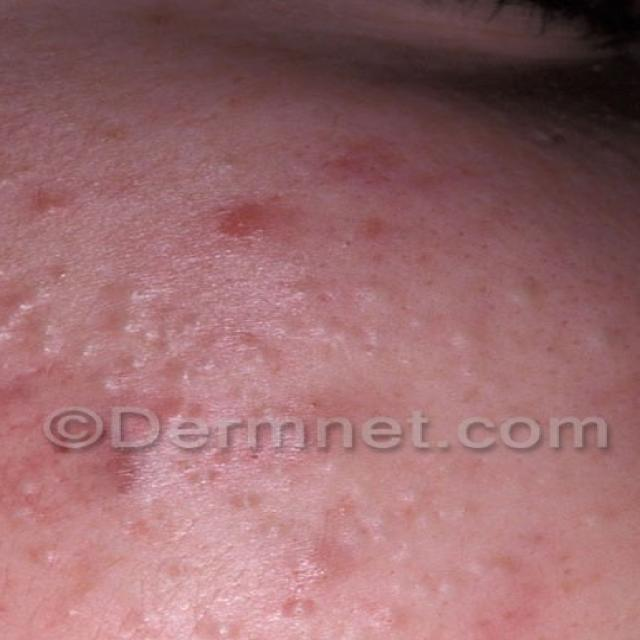Acne: (0, 73, 435, 640)
